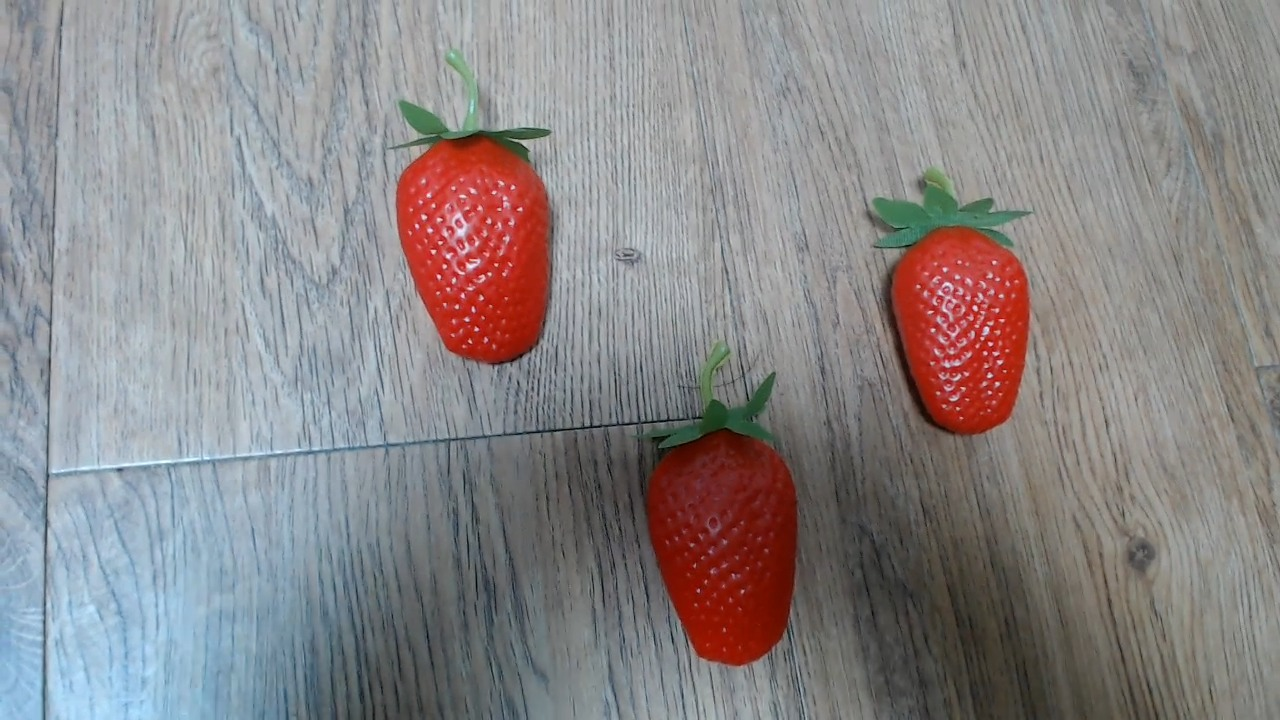strawberry: (636, 414, 809, 670), (386, 114, 559, 366), (887, 207, 1039, 436)
